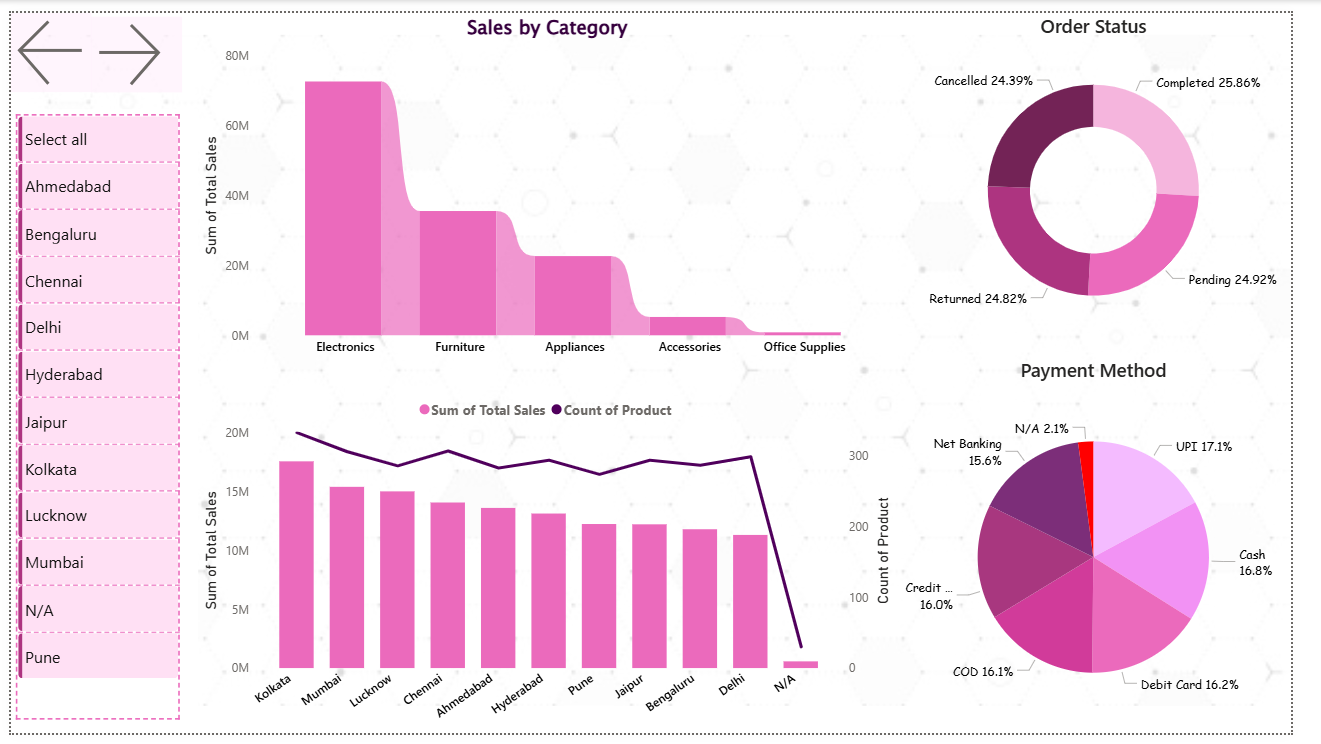

Layout of this report page (visuals, bound fields, positions):
{"tool":"powerbi","page":{"name":"Visuals","canvas":[1280,720],"ordinal":1},"visuals":[{"type":"lineClusteredColumnComboChart","title":"Sum of Total Sales and Products by Cities","fields":{"Category":["OrdersTable.City"],"Y2":["CountNonNull(OrdersTable.Product)"],"Y":["Sum(OrdersTable.Total Sales)"]},"box":[187.5,376.2,697.5,343.8],"z":0},{"type":"pieChart","title":"Payment Method","fields":{"Category":["OrdersTable.Payment Method"],"Y":["CountNonNull(OrdersTable.Payment Method)"]},"box":[885,343.8,395,376.2],"z":1000},{"type":"donutChart","title":"Order Status","fields":{"Y":["CountNonNull(OrdersTable.Order Status)"],"Category":["OrdersTable.Order Status"]},"box":[885,0,395,330],"z":2000},{"type":"ribbonChart","title":"Sales by Category","fields":{"Category":["OrdersTable.Category"],"Y":["Sum(OrdersTable.Total Sales)"]},"box":[187.5,0,697.5,352.5],"z":3000},{"type":"advancedSlicerVisual","fields":{"Values":["OrdersTable.City"]},"box":[0,96.1,187.3,624.4],"z":4000},{"type":"actionButton","box":[0,0,80.5,79.2],"z":5000},{"type":"actionButton","box":[80.5,3.6,91.3,75.6],"z":6000}]}

Visuals, with their boxes in screenshot pixels (x1, y1, x2, y2), scaled from the page's 1280x720 canvas onto the 1321x744 screenshot:
"Sum of Total Sales and Products by Cities" lineClusteredColumnComboChart: bbox=(194, 389, 913, 743)
"Payment Method" pieChart: bbox=(913, 355, 1320, 743)
"Order Status" donutChart: bbox=(913, 0, 1320, 341)
"Sales by Category" ribbonChart: bbox=(194, 0, 913, 364)
advancedSlicerVisual - OrdersTable.City: bbox=(0, 99, 193, 743)
actionButton: bbox=(0, 0, 83, 82)
actionButton: bbox=(83, 4, 177, 82)
